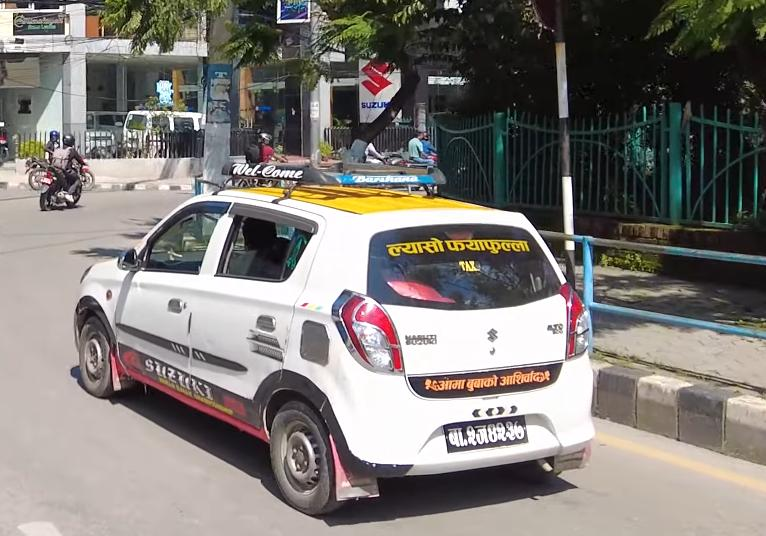bike: (35, 160, 87, 215)
taxi: (63, 168, 633, 518)
